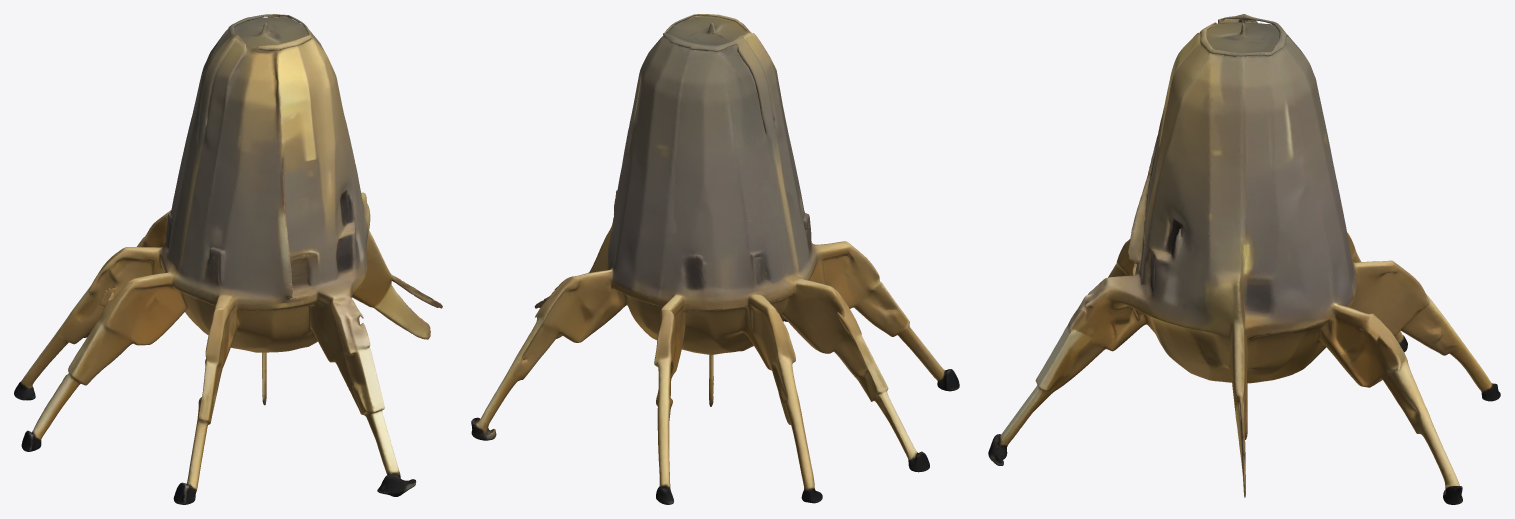
File: lunar-lander.glb
3 views of the same model, side by side, from view 1: azimuth 30°, elevation 25°; view 2: azimuth 150°, elevation 25°; view 3: azimuth 270°, elevation 25° (orthographic). The views are drawn at different scales.
Parts seen in each view (by area): view 1: geometry_0; view 2: geometry_0; view 3: geometry_0.
Boxes of the visible parts, x1,y1,x2,y2 form: geometry_0: (14,14,442,504); geometry_0: (471,14,959,504); geometry_0: (988,14,1500,504).
Size of the model in its own units: 0.9963 by 0.9258 by 1.
Materials: 1 (1 with a texture image).
